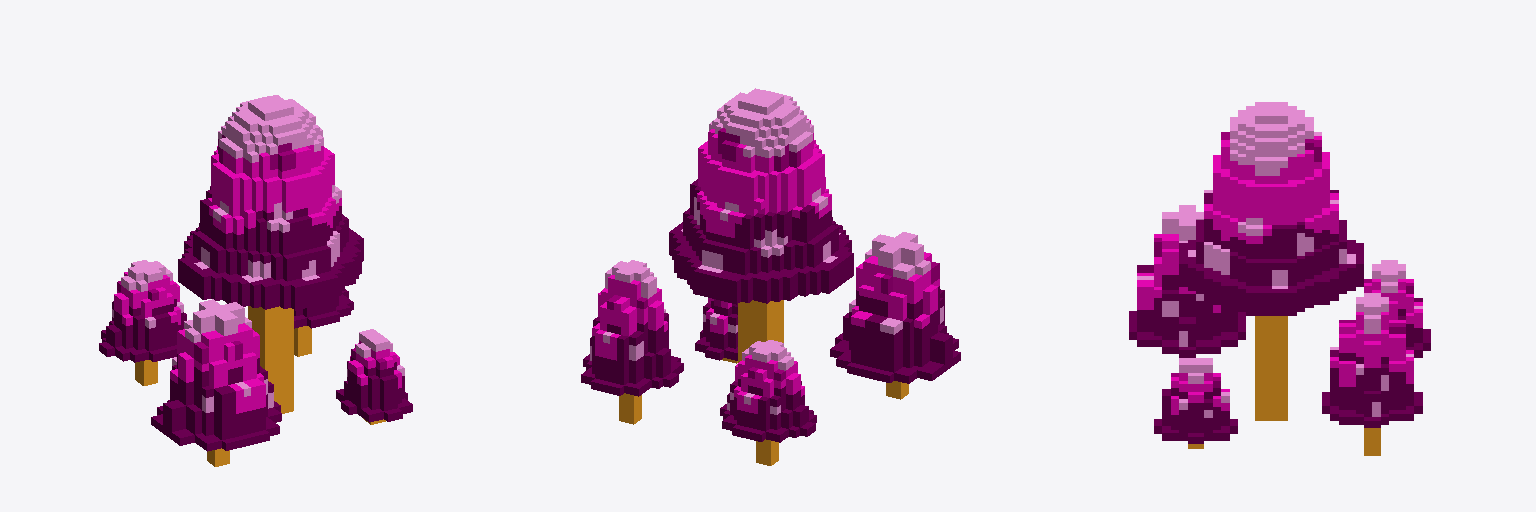
The picture shows the model from 3 angles: view 1: azimuth 30°, elevation 25°; view 2: azimuth 150°, elevation 25°; view 3: azimuth 270°, elevation 25°; orthographic projection.
Parts seen in each view (by area): view 1: object 1; view 2: object 1; view 3: object 1.
Boxes of the visible parts, x1,y1,x2,y2 form: object 1: [99, 95, 412, 466]; object 1: [581, 88, 960, 465]; object 1: [1129, 102, 1430, 455].
Bounding box in the file's own units: 3.7 × 4 × 3.6.
1 materials, 1 textured.